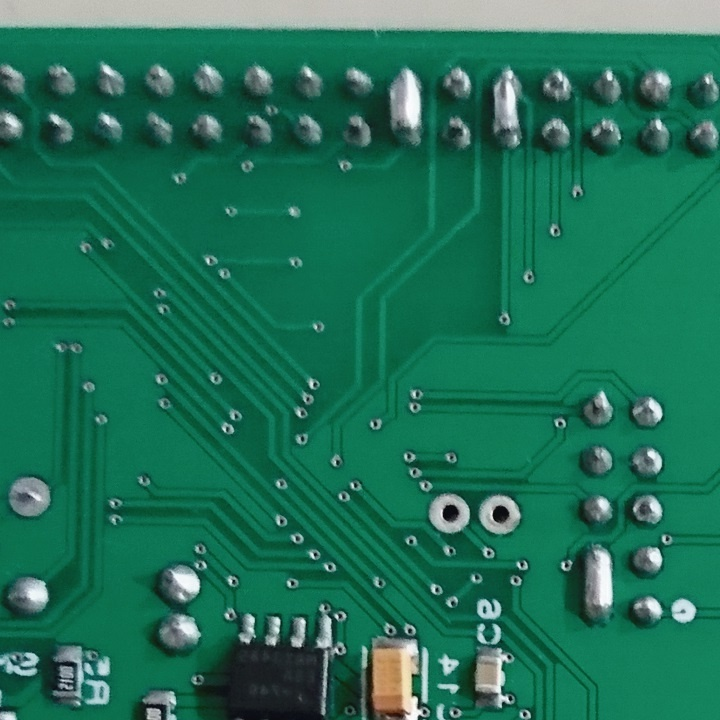F: (7, 470, 55, 522), (475, 490, 523, 540), (424, 488, 474, 533)
P: (384, 67, 428, 149), (490, 64, 529, 153), (581, 540, 619, 628)
